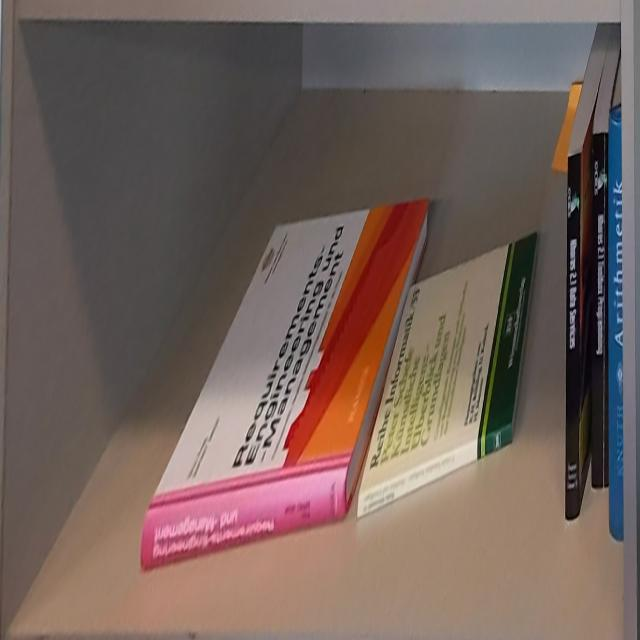Book Spine: (140, 470, 348, 571), (357, 423, 513, 518), (564, 150, 583, 520), (608, 108, 622, 542), (592, 133, 608, 489)
